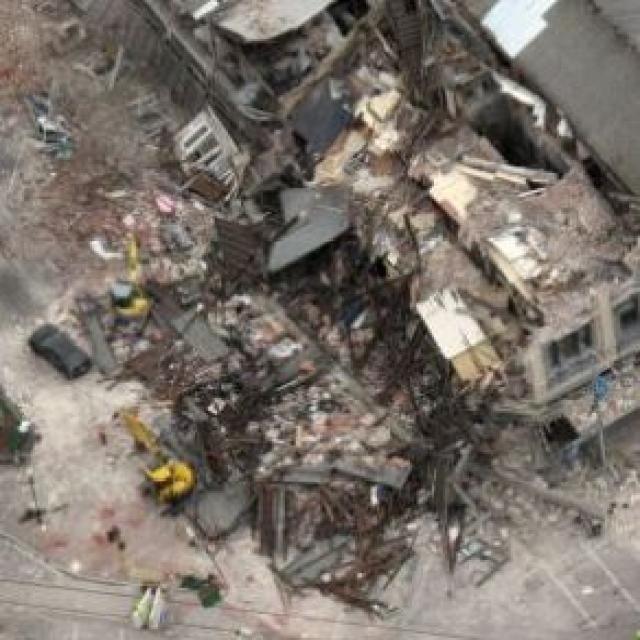collapsed_building: (132, 0, 620, 476)
